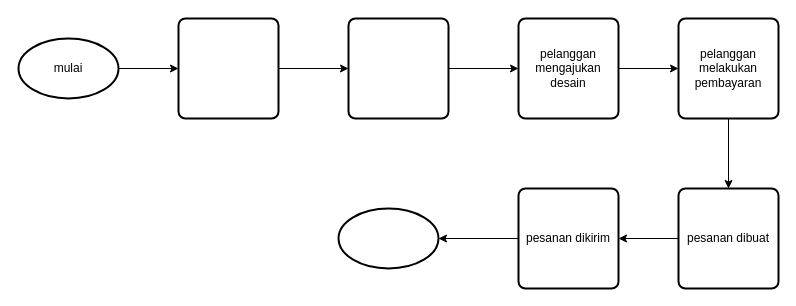
Some shapes in this 796 by 306 pixel diagram are drawn without their labels. The shapes that lost their labels are listed below. From the top down, each one's centre as x and y in pixels, then its label:
pixel 228 68: pelanggan memesan memalui whatsapp atau datang lanngsung
pixel 398 68: pesanan dicatat manual
pixel 388 238: selesai
